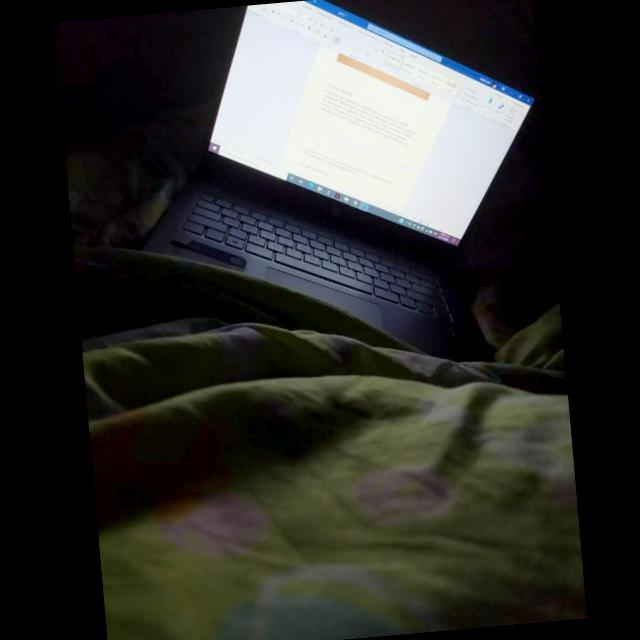laptop: (145, 0, 533, 359)
